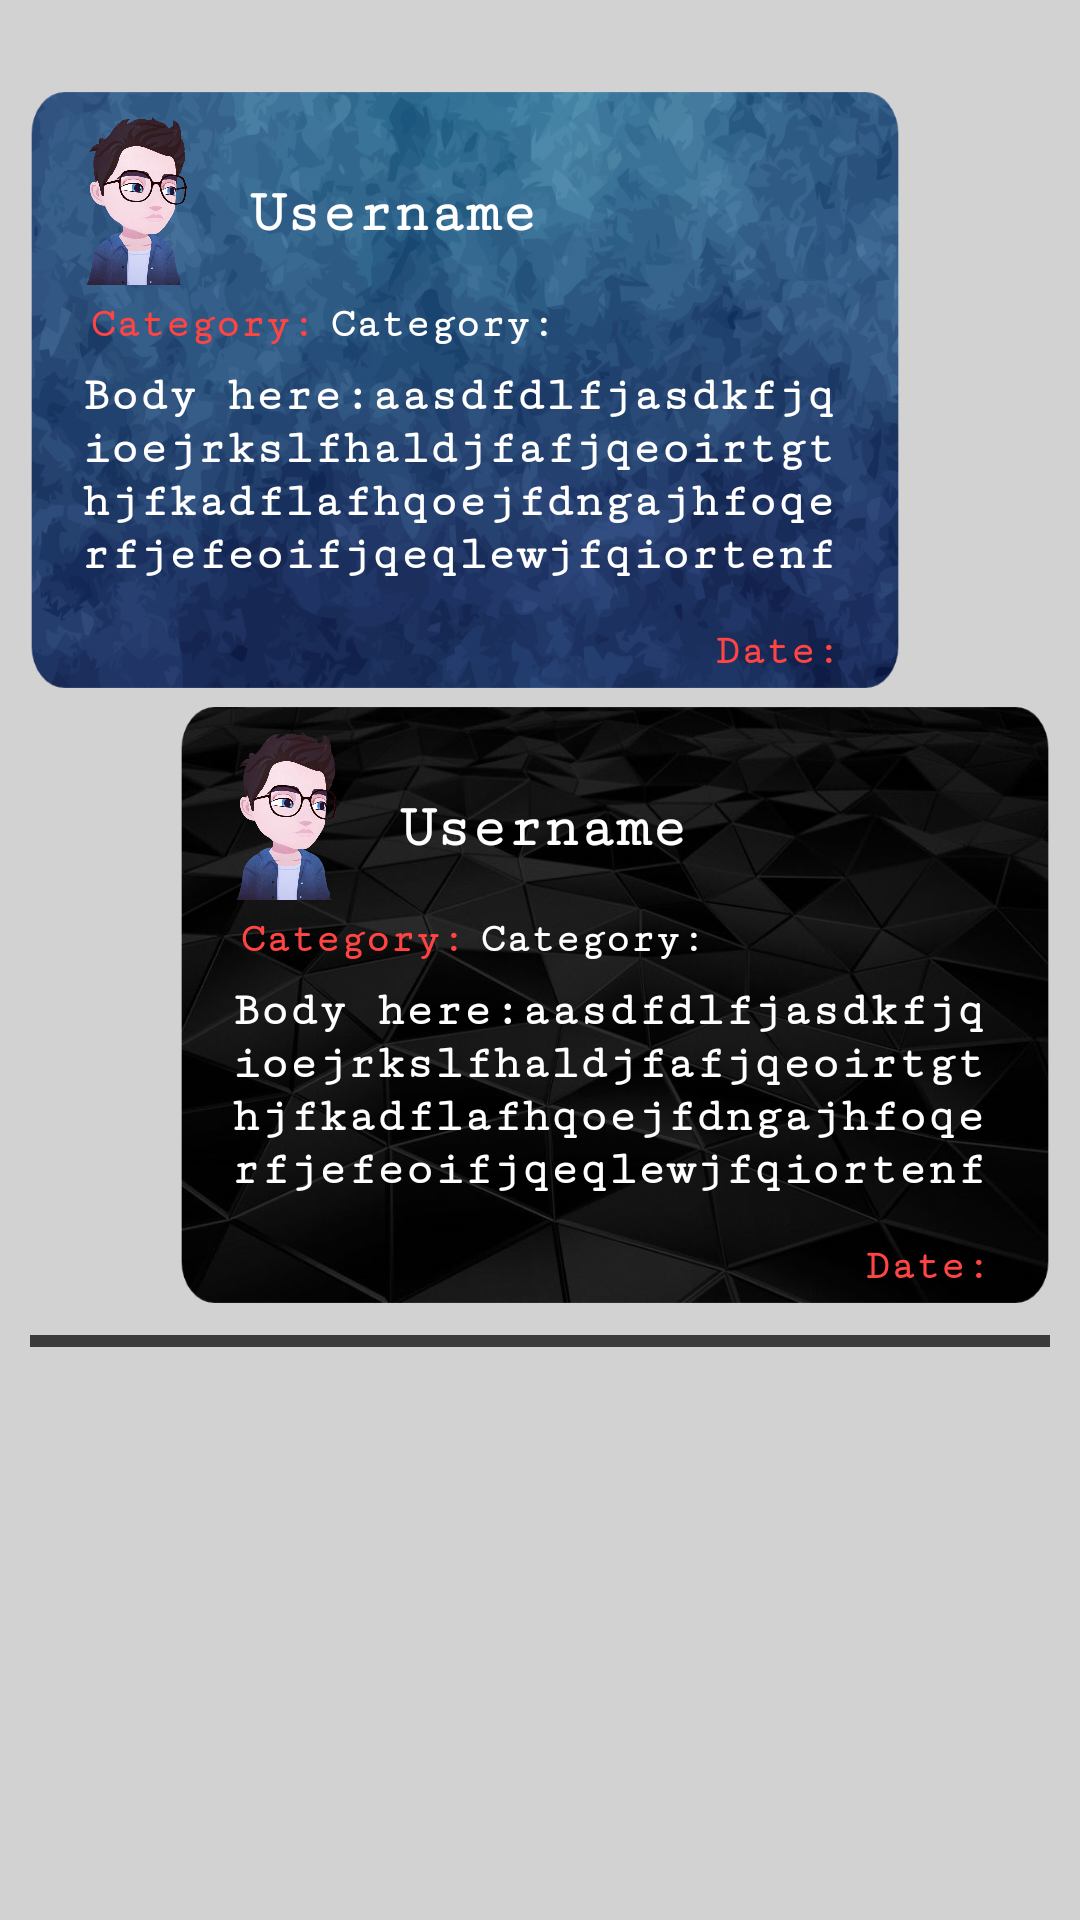

Where icons sit on this 1080 × 1920 app screen, as (x1, y1, x2, y2):
male: (87, 117, 225, 285), (237, 733, 336, 900)
